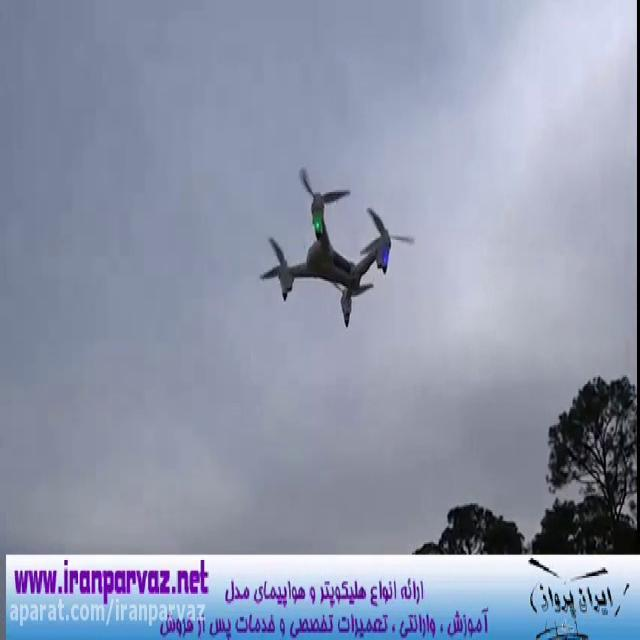drone: (255, 162, 418, 329)
